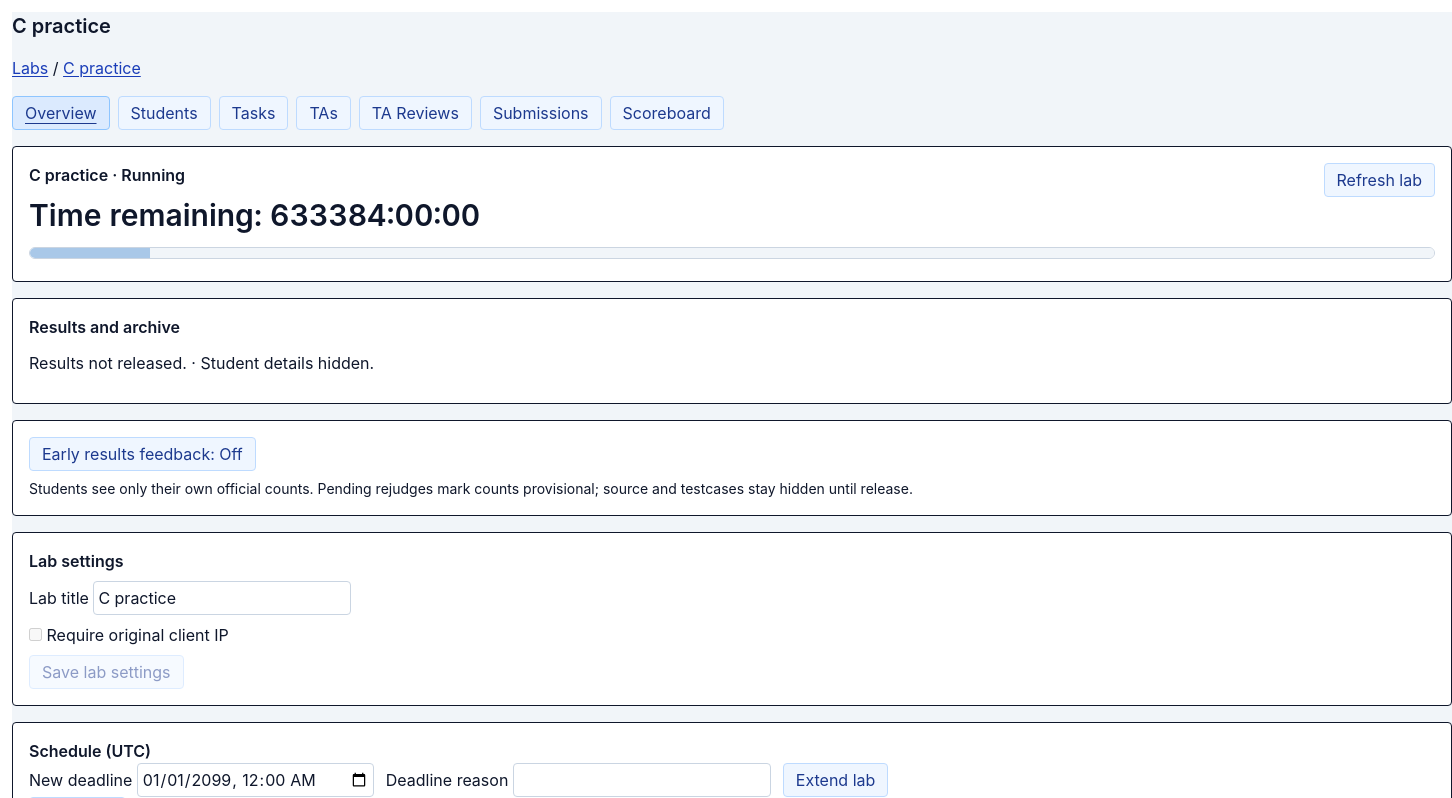
Test case: admin confirms early feedback disclosure and sees the updated setting
The image size is (1452, 798).
Click the button "Early results feedback: Off" at (142, 454), box [29,437,256,471]
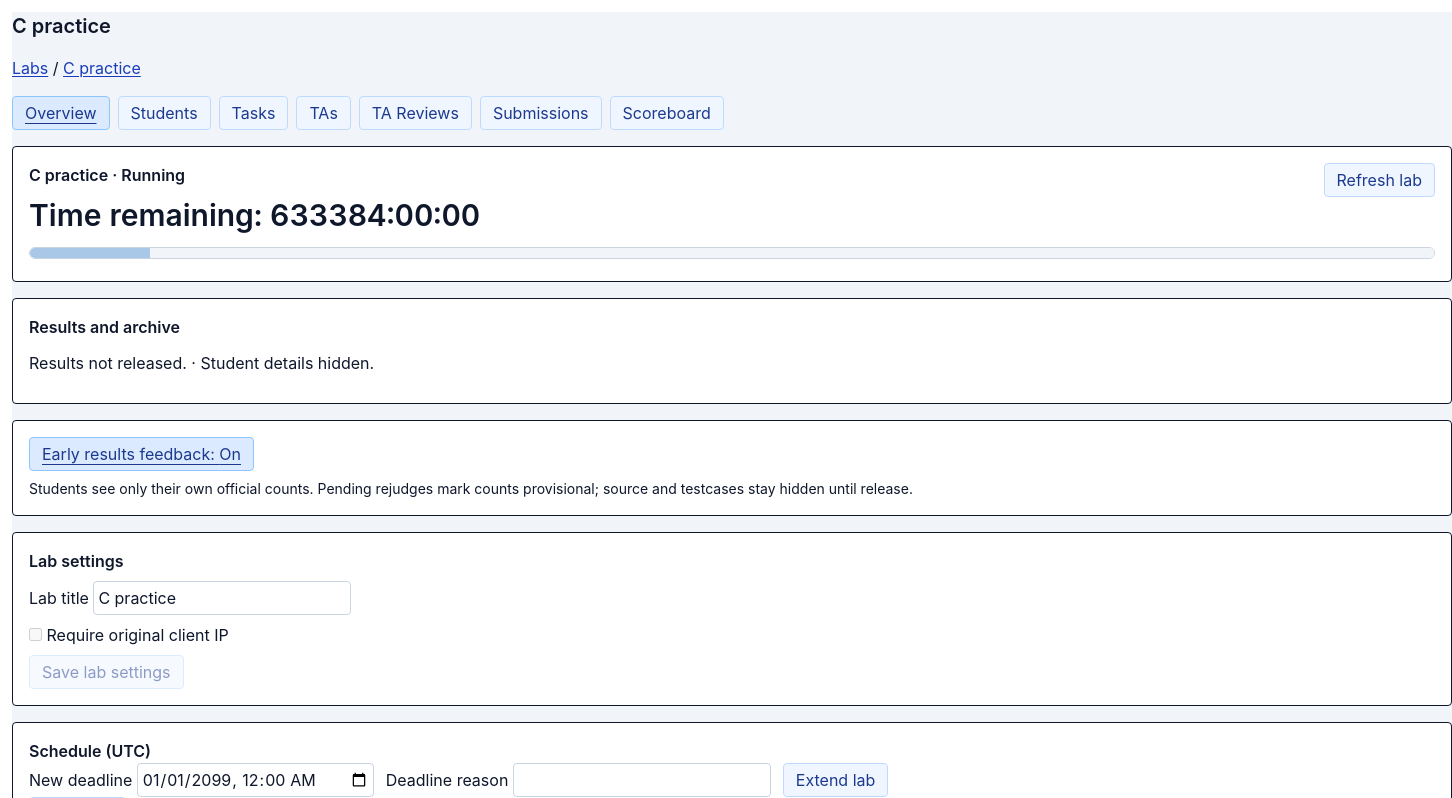
Expected: the button "Early results feedback: On" is shown, [29,437,254,471]
